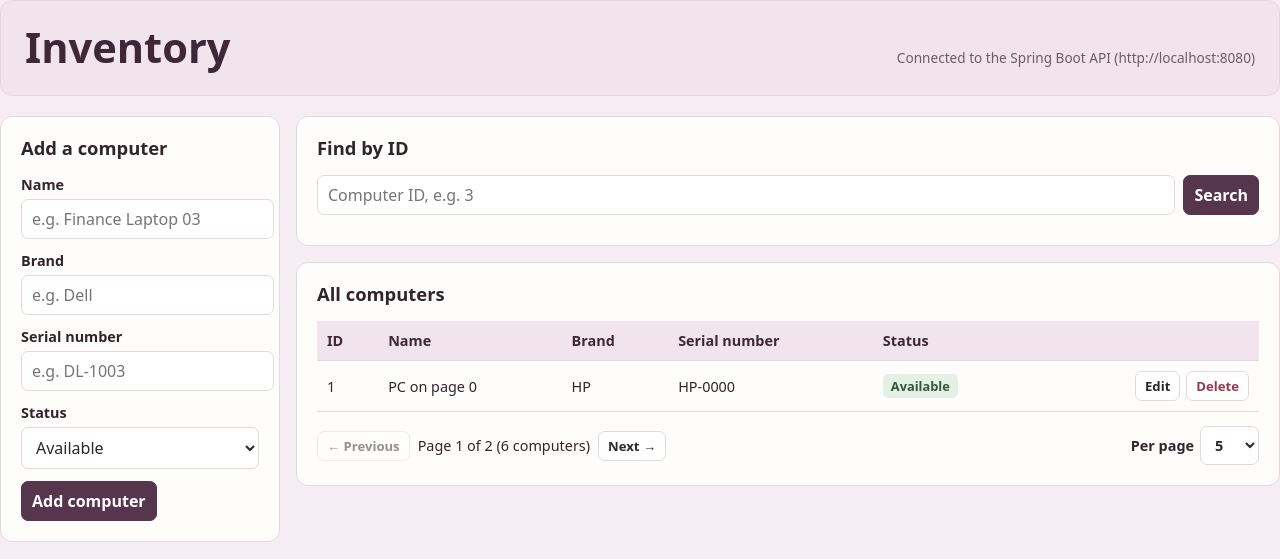
Test: Inventory page loading, empty and error states (integrated mode) › asks the server for the next page (server-side pagination)
The width and height of the screenshot is (1280, 559).
Expected: the text "PC on page 0" is shown, [378,361,562,412]
Click the button "Next →" at (632, 446), box [598,431,666,461]
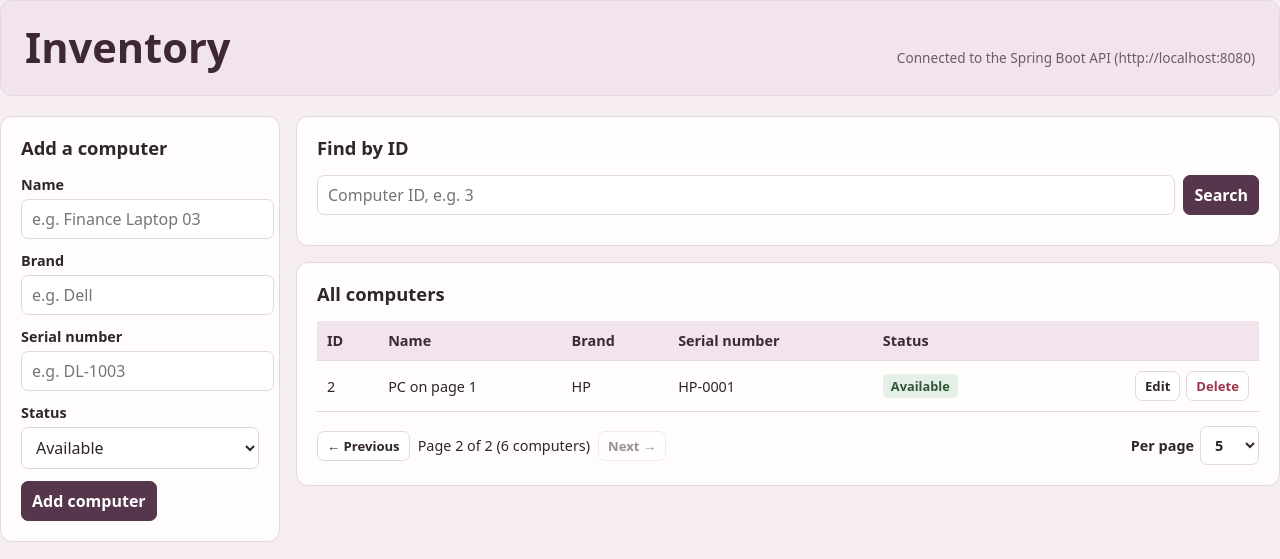
Expected: the text "PC on page 1" is shown, [378,361,562,412]
